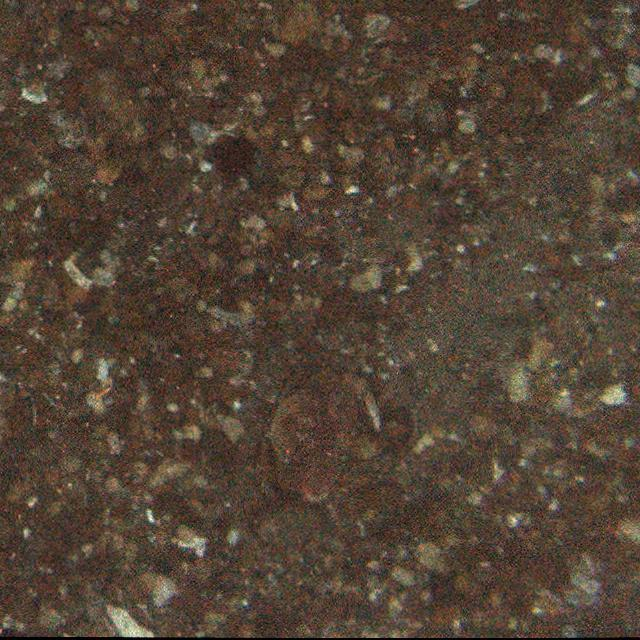crab: (267, 371, 392, 503)
